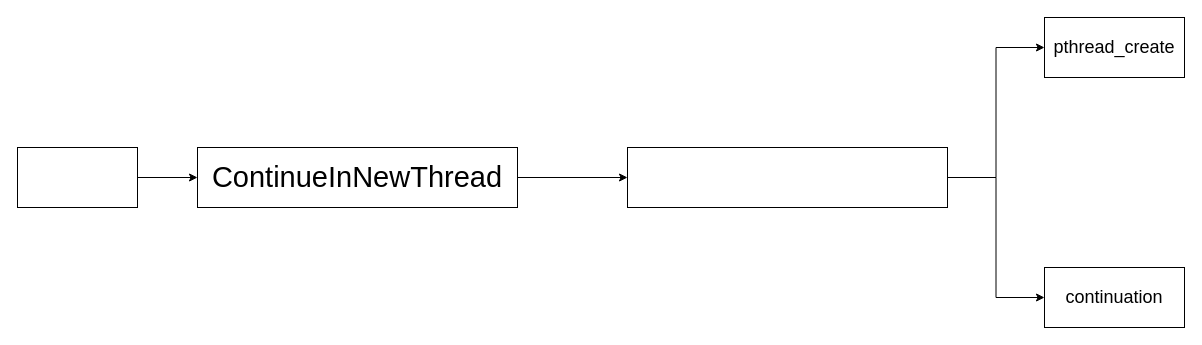
The diagram is 1202 pixels wide and 345 high, and some of its shapes have lost their labels. The box of each missing label's shape, as (x1, y1, x2, y2) in pixels:
ContinueInNewThread0: (626, 146, 948, 208)
JVMInit: (16, 146, 138, 208)
